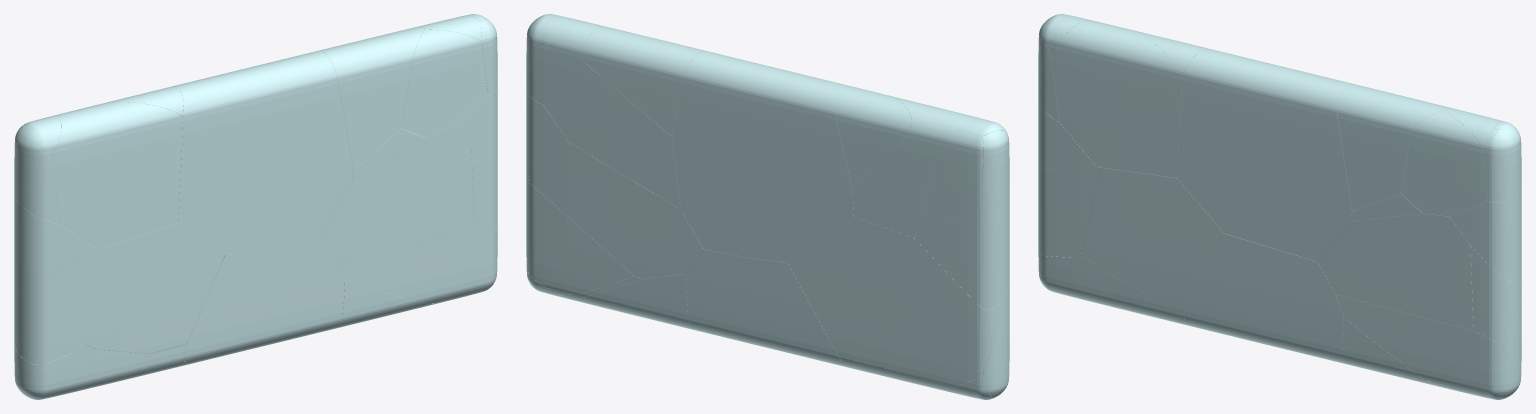
File: shatteredWall.glb
3 renders of one model, left to right at view 1: azimuth 30°, elevation 25°; view 2: azimuth 150°, elevation 25°; view 3: azimuth 330°, elevation 25°, orthographic.
Parts seen in each view (by area): view 1: Cube.001_cell.073, Cube.001_cell.062, Cube.001_cell.070, Cube.001_cell.055, Cube.001_cell.064, Cube.001_cell.067, Cube.001_cell.049, Cube.001_cell.041, Cube.001_cell.053, Cube.001_cell.075, Cube.001_cell.043, Cube.001_cell.069 (+11 smaller); view 2: Cube.001_cell.073, Cube.001_cell.055, Cube.001_cell.054, Cube.001_cell.045, Cube.001_cell.059, Cube.001_cell.062, Cube.001_cell.049, Cube.001_cell.071, Cube.001_cell.075, Cube.001_cell.057, Cube.001_cell.060, Cube.001_cell.069 (+12 smaller); view 3: Cube.001_cell.073, Cube.001_cell.062, Cube.001_cell.070, Cube.001_cell.055, Cube.001_cell.064, Cube.001_cell.067, Cube.001_cell.049, Cube.001_cell.041, Cube.001_cell.053, Cube.001_cell.051, Cube.001_cell.058, Cube.001_cell.048 (+13 smaller).
Boxes of the visible parts, x1,y1,x2,y2 form: Cube.001_cell.073: (173,50,353,254); Cube.001_cell.062: (50,102,182,248); Cube.001_cell.070: (183,237,344,361); Cube.001_cell.055: (83,222,224,353); Cube.001_cell.064: (319,128,474,260); Cube.001_cell.067: (337,230,497,303); Cube.001_cell.049: (321,26,424,169); Cube.001_cell.041: (402,29,487,137); Cube.001_cell.053: (14,249,101,364); Cube.001_cell.075: (14,196,95,295); Cube.001_cell.043: (14,124,60,224); Cube.001_cell.069: (336,280,435,328); Cube.001_cell.073: (672,50,853,262); Cube.001_cell.055: (788,217,991,386); Cube.001_cell.054: (529,142,703,278); Cube.001_cell.045: (544,60,680,209); Cube.001_cell.059: (702,258,848,367); Cube.001_cell.062: (852,96,973,237); Cube.001_cell.049: (581,27,704,136); Cube.001_cell.071: (526,183,633,294); Cube.001_cell.075: (914,201,1009,310); Cube.001_cell.057: (835,86,911,188); Cube.001_cell.060: (915,130,983,237); Cube.001_cell.069: (575,274,692,329); Cube.001_cell.073: (1177,48,1354,261); Cube.001_cell.062: (1050,20,1182,177); Cube.001_cell.070: (1184,233,1344,363); Cube.001_cell.055: (1082,167,1223,303); Cube.001_cell.064: (1318,213,1473,330); Cube.001_cell.067: (1336,294,1515,398); Cube.001_cell.049: (1337,84,1454,211); Cube.001_cell.041: (1401,111,1487,216); Cube.001_cell.053: (1038,165,1100,257); Cube.001_cell.051: (1450,191,1521,283); Cube.001_cell.058: (1470,245,1521,342); Cube.001_cell.048: (1482,129,1516,202).
Bounding box in the file's own units: 10.52 × 5.81 × 0.9681.
